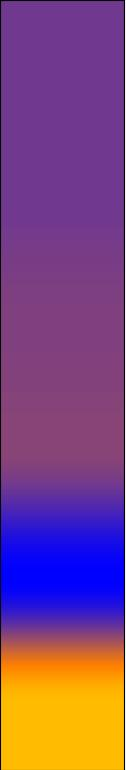Thermal Runaway: (10, 660, 119, 765)
critical: (9, 195, 118, 467), (6, 629, 119, 646)
safe: (8, 6, 116, 185), (8, 487, 119, 620)
